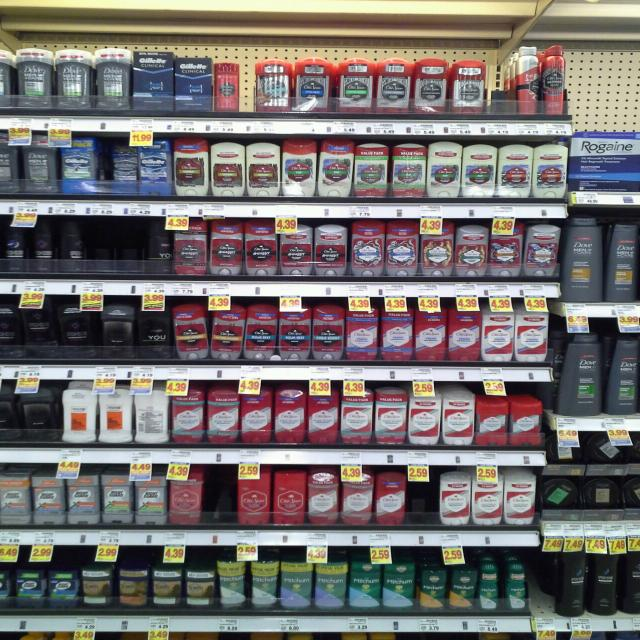empty: (83, 220, 148, 277), (194, 464, 244, 525), (480, 53, 523, 115), (409, 467, 448, 531), (529, 557, 560, 627)
